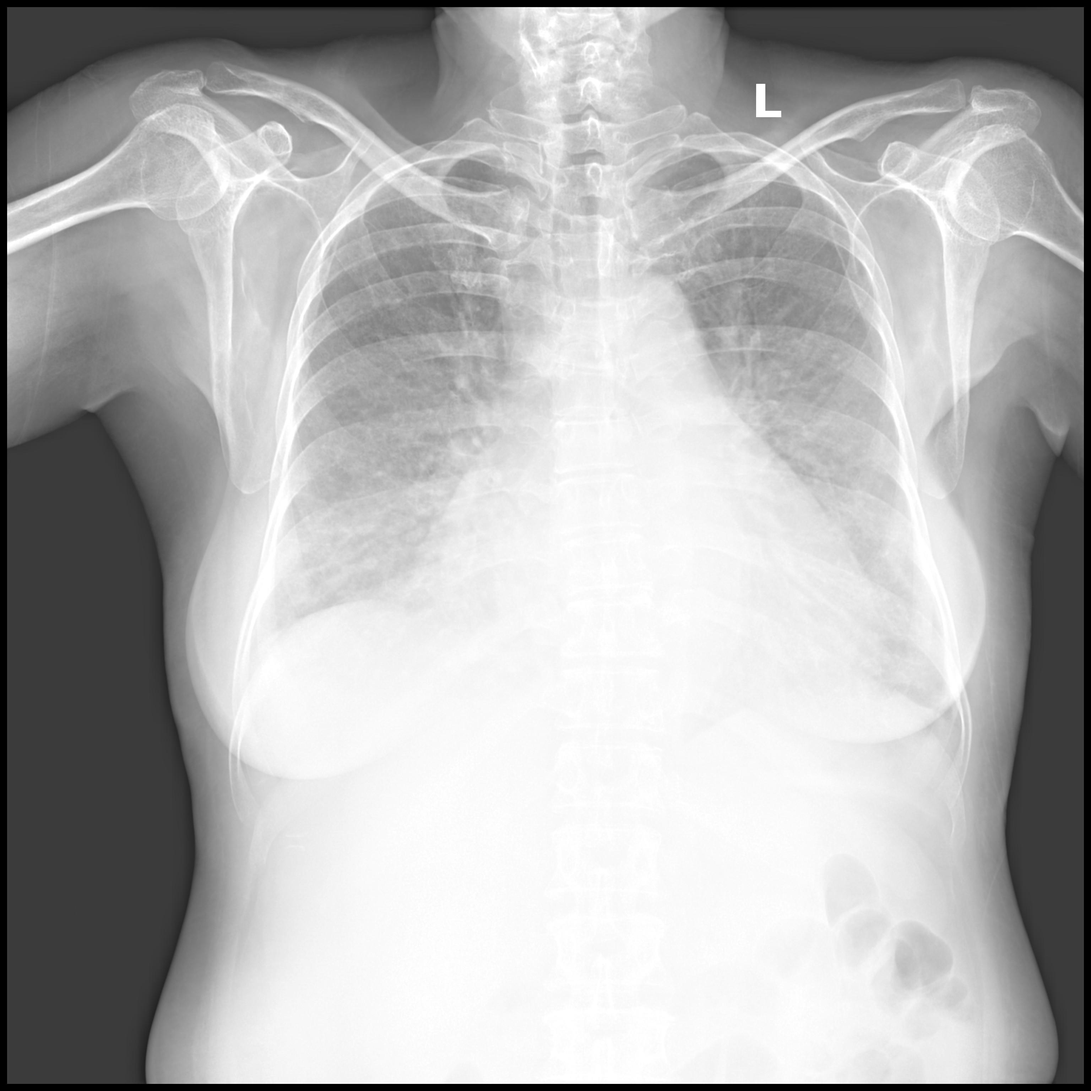Cardiomegaly: (419, 516, 885, 672)
